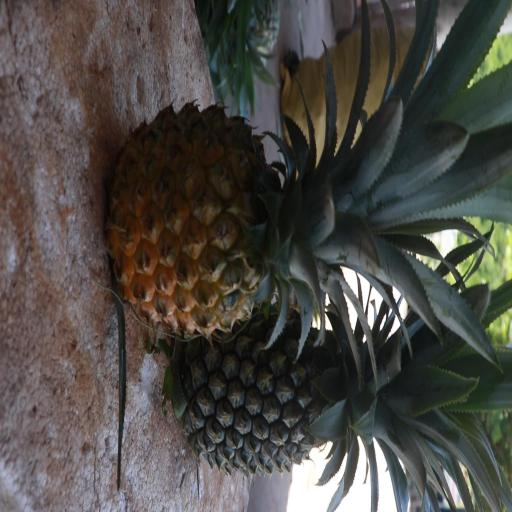Pineapple - v8 v1: (114, 104, 453, 326)
